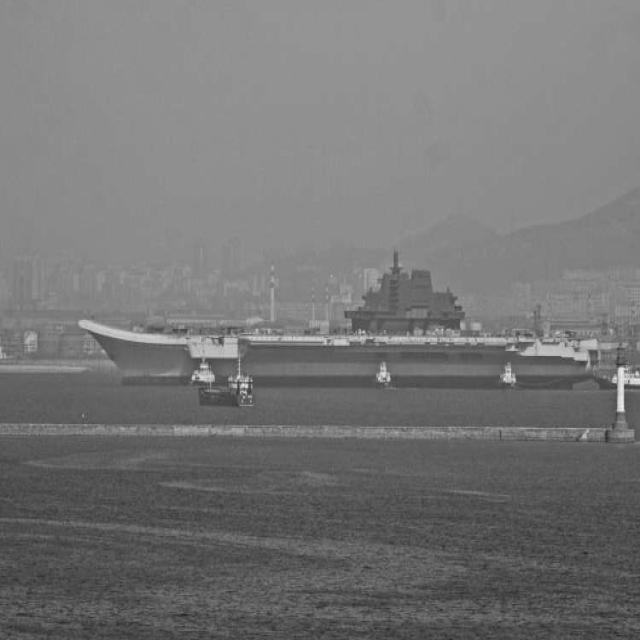Portanaves: (75, 242, 594, 400)
